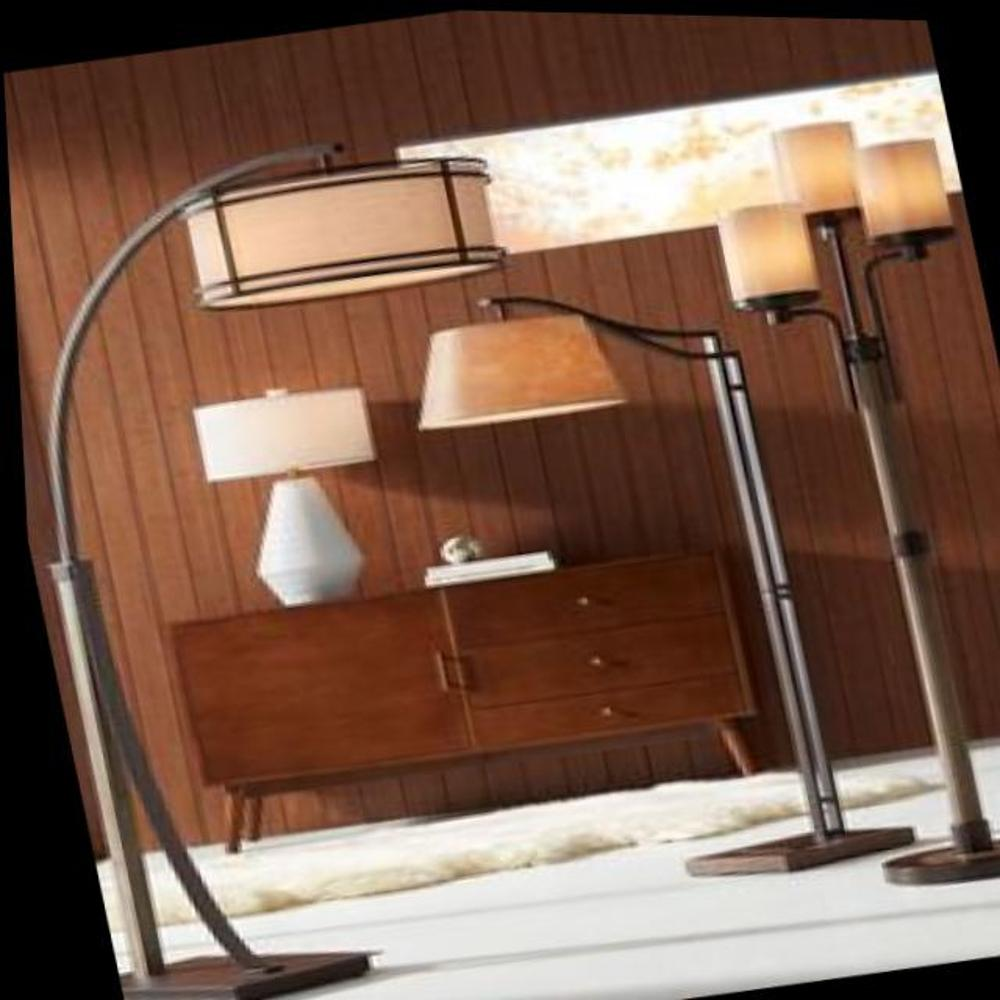shelf: (4, 100, 649, 1000), (402, 233, 910, 903), (696, 100, 1000, 900), (153, 362, 390, 617)
